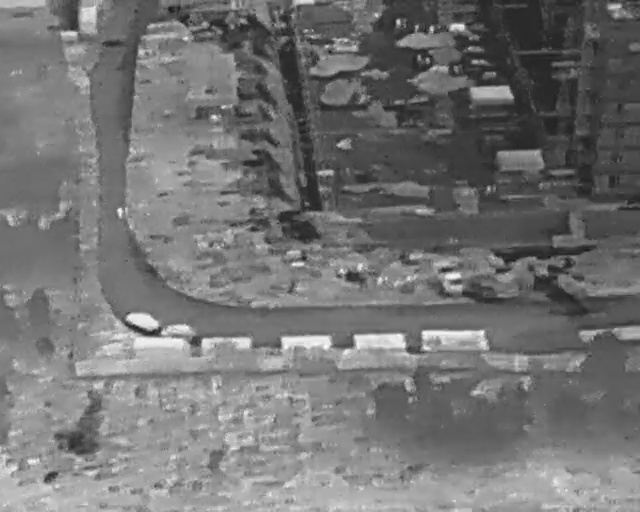Person: (116, 205, 125, 221), (427, 22, 435, 37), (413, 21, 420, 35), (396, 16, 402, 30)
